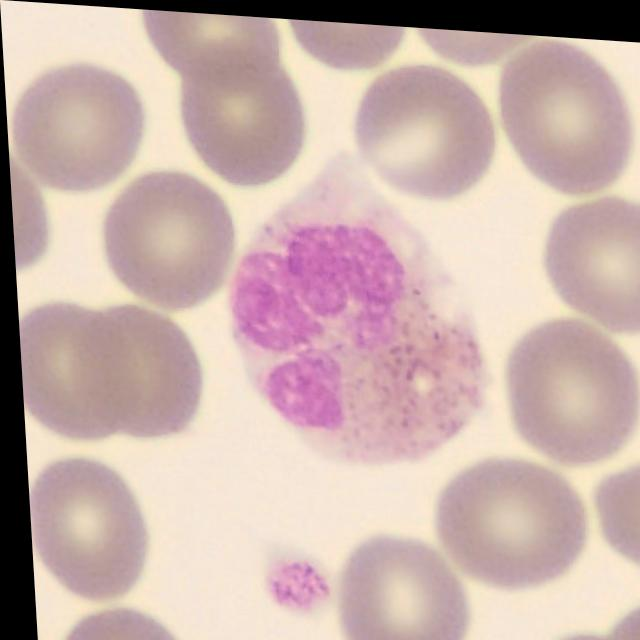Neutrofilo segmentado: (221, 144, 487, 466)
